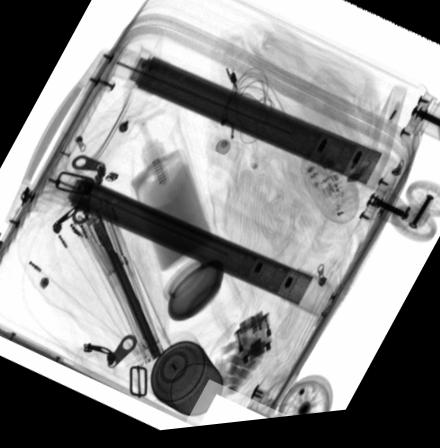Sprayer: (150, 343, 223, 420)
